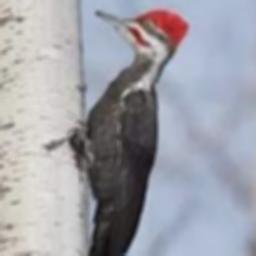Woodpecker: (74, 10, 189, 256)
